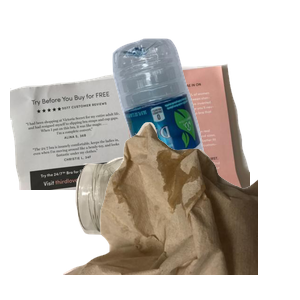glass: (73, 153, 284, 300)
paper: (10, 61, 250, 241)
plastic: (110, 36, 300, 216)
trash: (60, 120, 300, 300)
